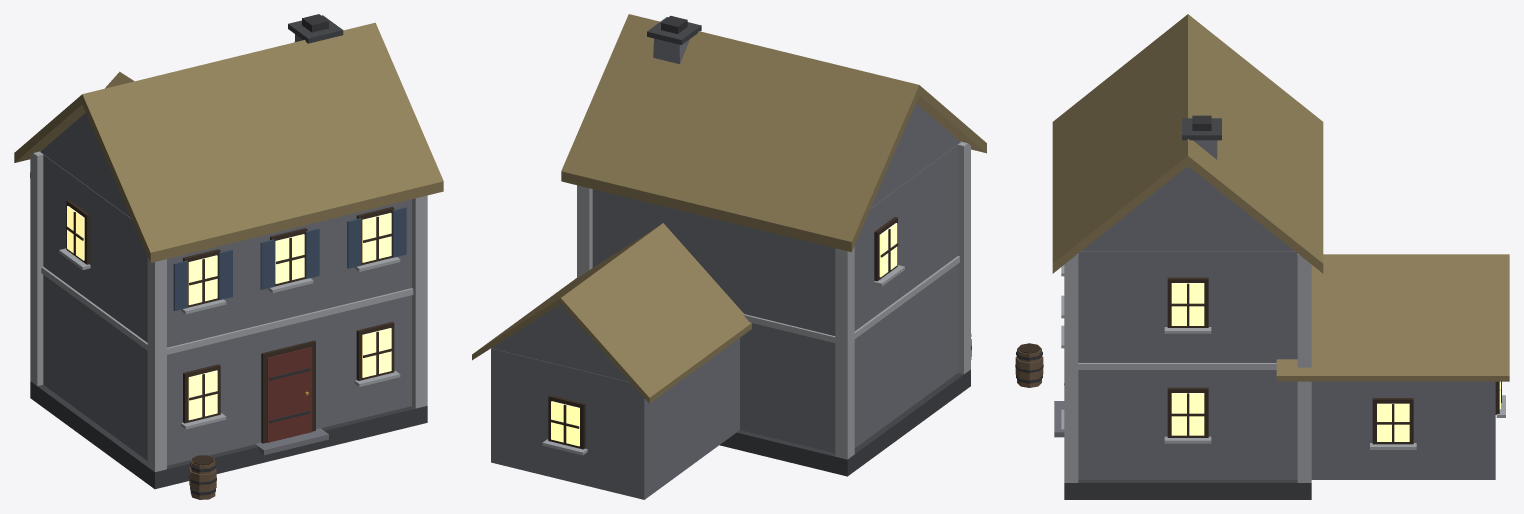
Rendered from bree_house_stone_2.glb.
3 views of the same model, side by side, from view 1: azimuth 30°, elevation 25°; view 2: azimuth 150°, elevation 25°; view 3: azimuth 270°, elevation 25° (orthographic).
Parts seen in each view (by area): view 1: bree_house_stone_2; view 2: bree_house_stone_2; view 3: bree_house_stone_2.
Boxes of the visible parts, box(x1,y1,x2,y2) form: bree_house_stone_2: box(14, 14, 443, 499); bree_house_stone_2: box(472, 14, 986, 499); bree_house_stone_2: box(1015, 14, 1509, 499).
Size of what is drawn, in the model's own units: 7.2 by 8.51 by 10.61.
